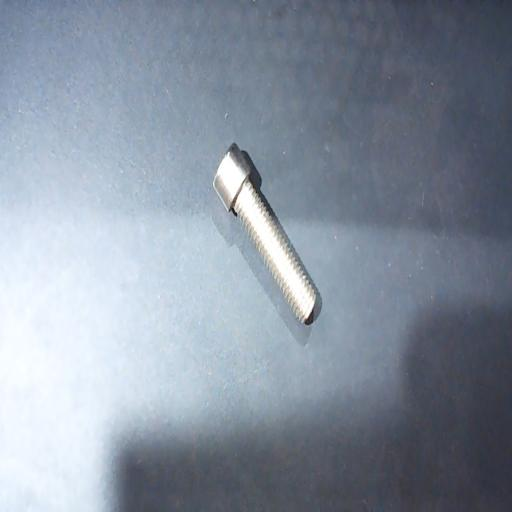screw: (212, 142, 317, 326)
